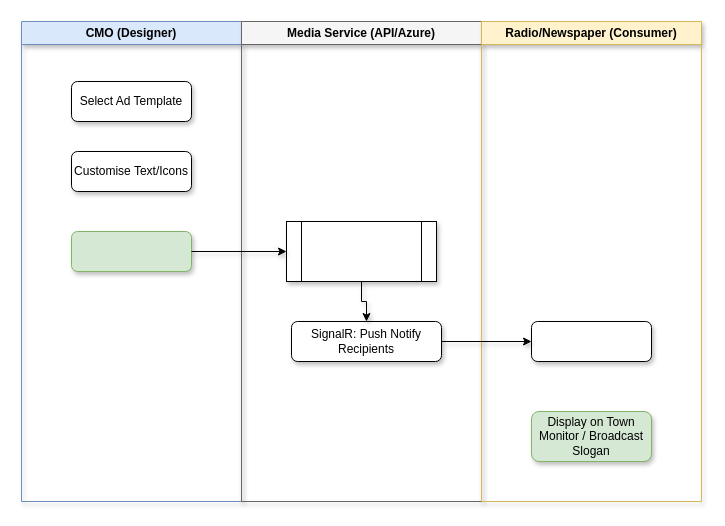
Image size: 725x526. Some labels were removed from this diagram. The shapes that lost their labels are listed below. From the top down, each one's centre as x and y in pixels, then its label:
At point (132, 252): "Publish to Town Feed".
At point (362, 252): "Save Design JSON & Render PNG in Blob Storage".
At point (592, 342): "Receive & Preview Ad".
